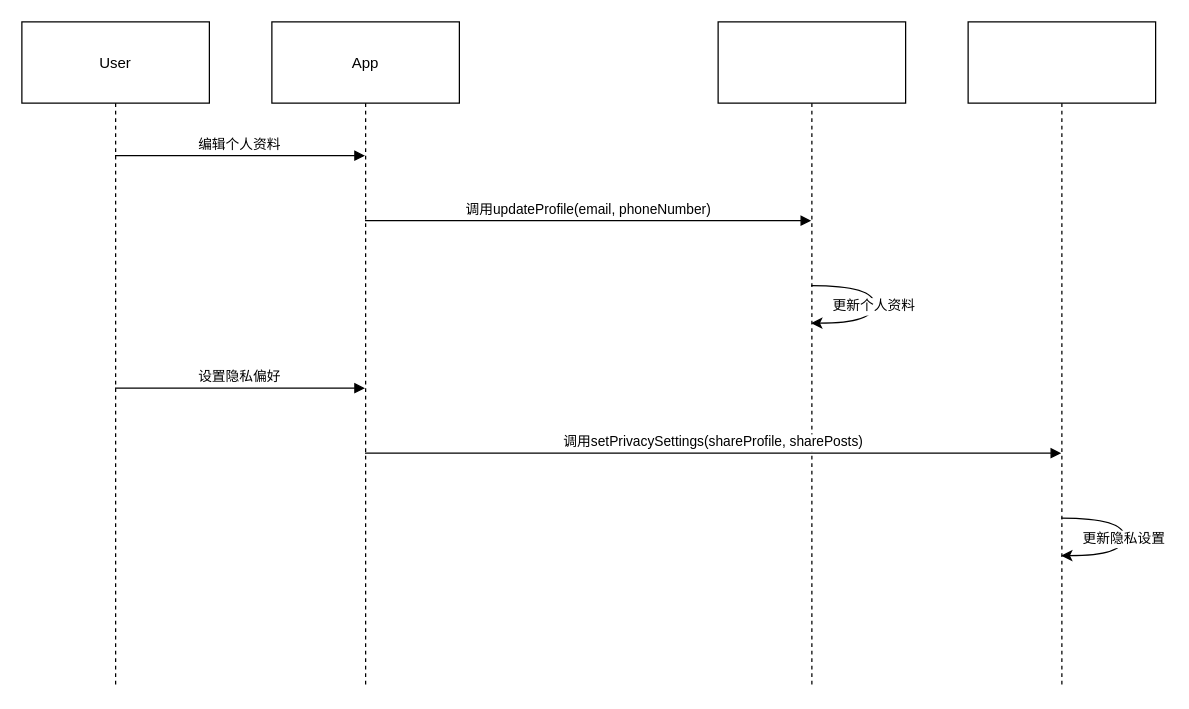
Image size: 1189x709. Some labels were removed from this diagram. The box of each missing label's shape, as (x1, y1, x2, y2) in pixels:
PrivacySettings: (967, 21, 1156, 687)
UserProfile: (717, 21, 906, 687)
